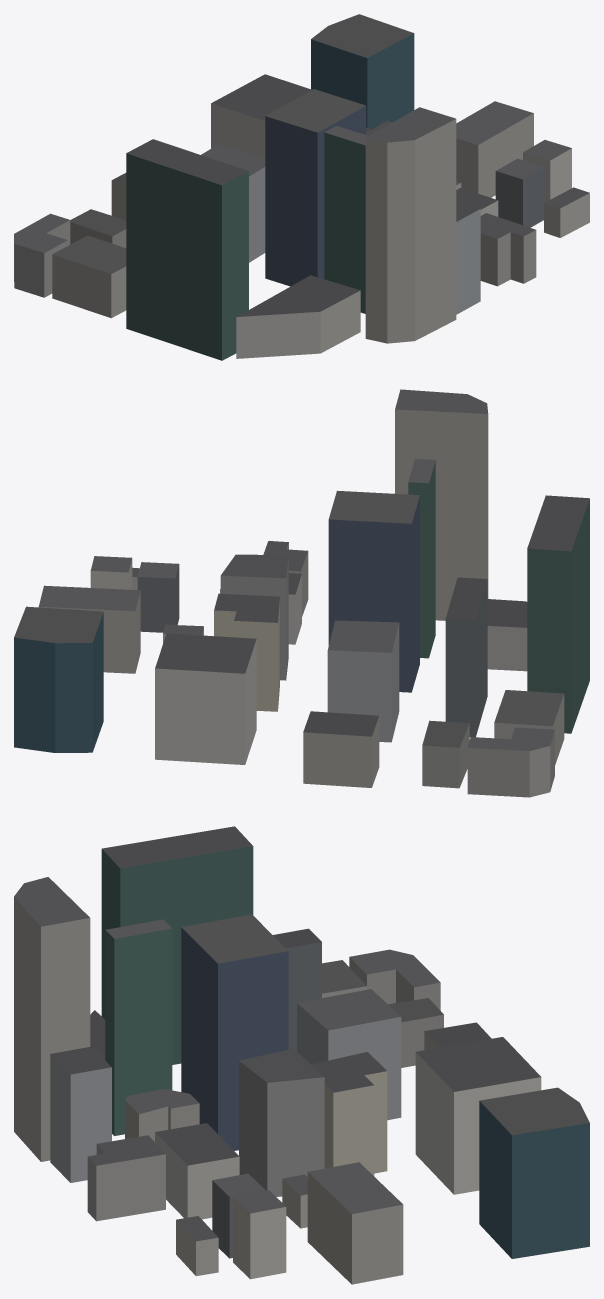
File: 12_5.far.glb
3 views of the same model, one above another, from view 1: azimuth 30°, elevation 25°; view 2: azimuth 150°, elevation 25°; view 3: azimuth 270°, elevation 25° (orthographic). The views are drawn at different scales.
Visible parts, largest first — view 1: 12_5_far; view 2: 12_5_far; view 3: 12_5_far.
Boxes of the visible parts, x1,y1,x2,y2 form: 12_5_far: (14,14,589,360); 12_5_far: (14,389,589,797); 12_5_far: (14,826,589,1284).
Bounding box in the file's own units: 227 × 90.5 × 192.
